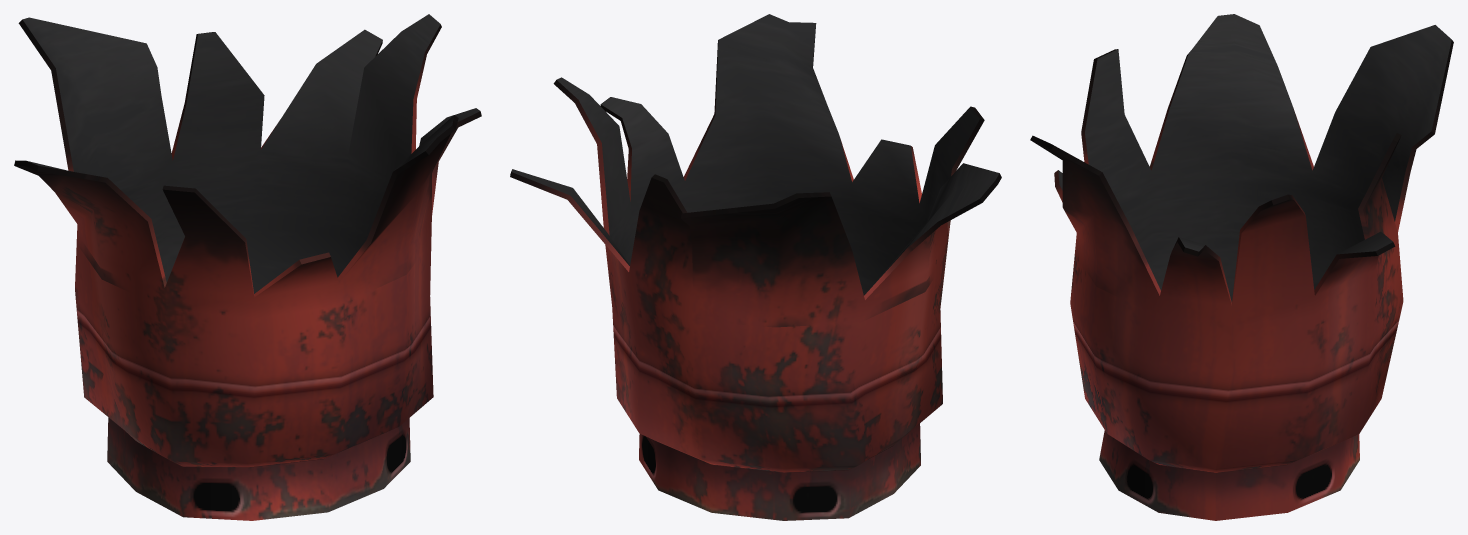
Rendered from gasCylinder04_B.fbx.
3 views of the same model, side by side, from view 1: azimuth 30°, elevation 25°; view 2: azimuth 150°, elevation 25°; view 3: azimuth 270°, elevation 25° (orthographic). The views are drawn at different scales.
Visible parts, largest first — view 1: gasCylinder04_B; view 2: gasCylinder04_B; view 3: gasCylinder04_B.
Part boxes in pixels (x1,y1,x2,y2): gasCylinder04_B: (14,14,481,520); gasCylinder04_B: (510,14,1001,520); gasCylinder04_B: (1030,14,1453,520).
Size of the model in its own units: 45.82 by 39.41 by 40.31.
